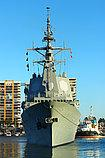MIL_Ship: (20, 6, 81, 147)
